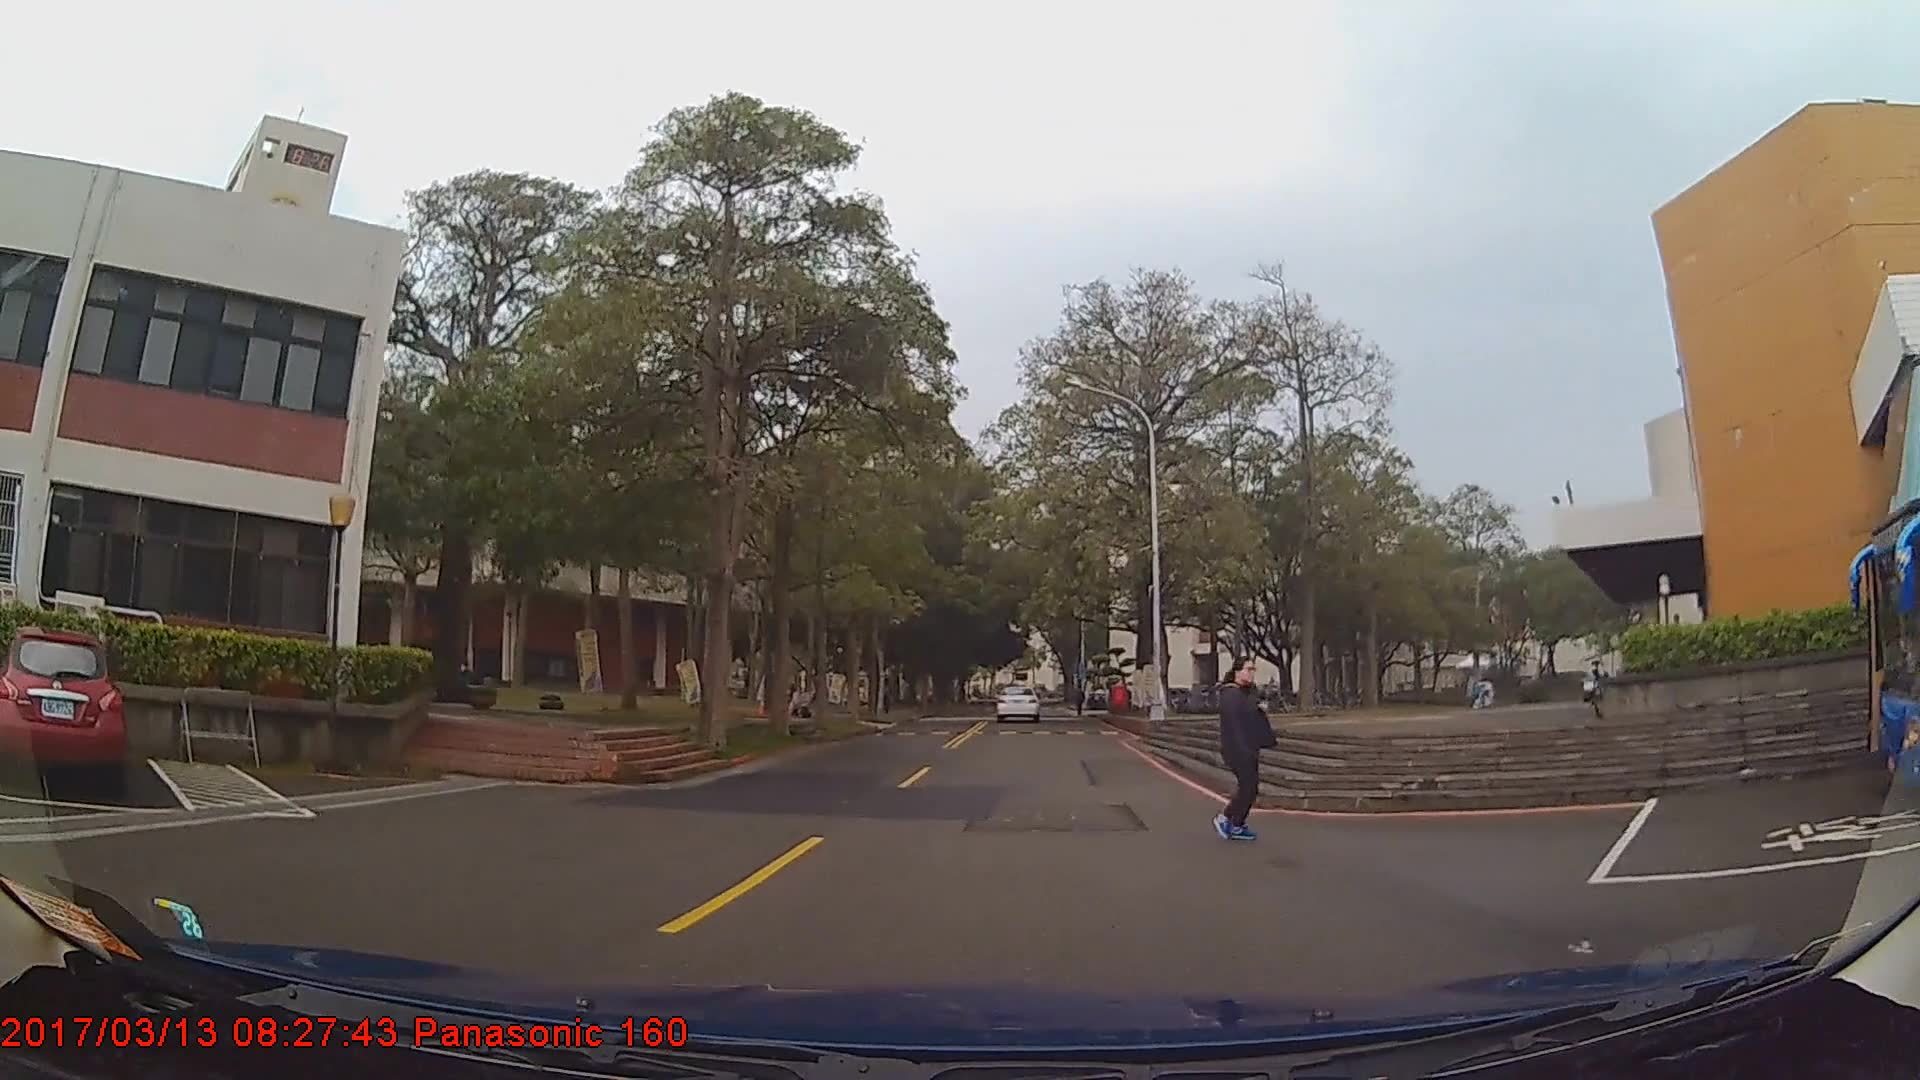pedestrian: (1213, 654, 1284, 839)
vehicle: (0, 625, 124, 792), (995, 682, 1040, 720)
